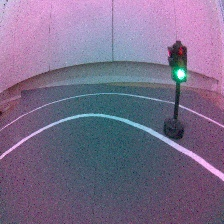green: (161, 38, 192, 143)
